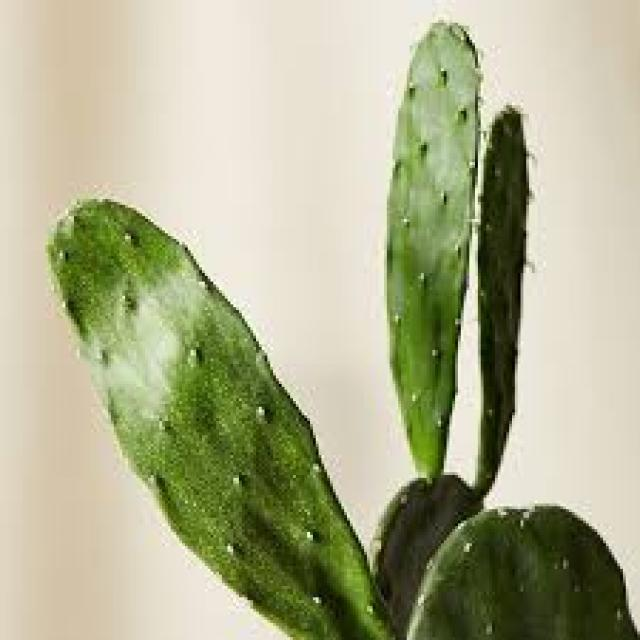cactus: (31, 8, 640, 638)
